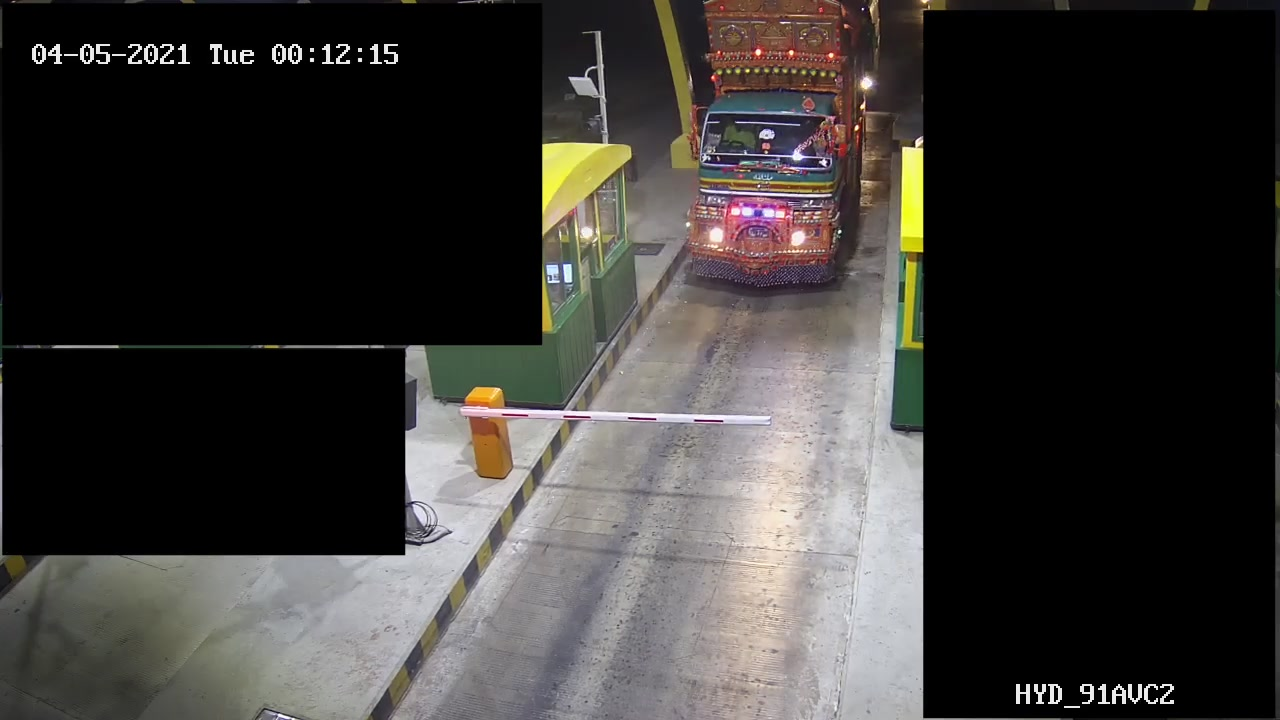F5: (670, 1, 875, 293)
